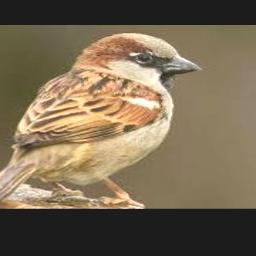Sparrow: (0, 32, 203, 206)
